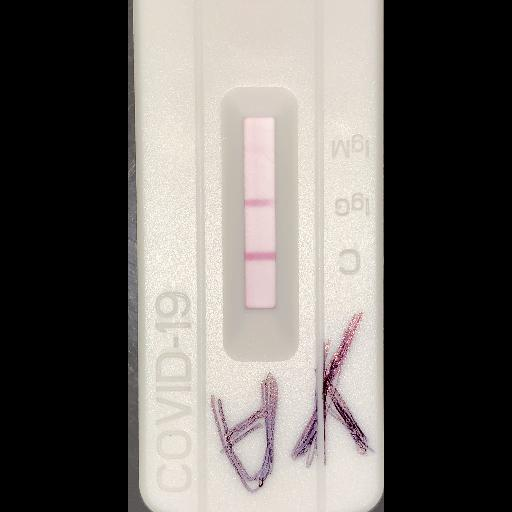Pos: (133, 0, 381, 511)
